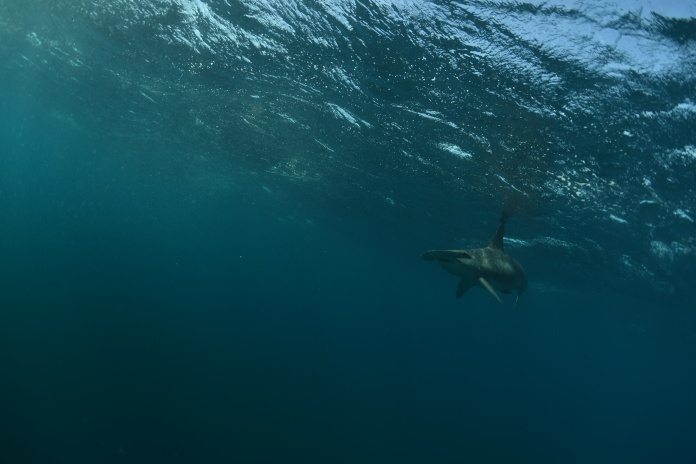Hammer: (409, 213, 555, 319)
